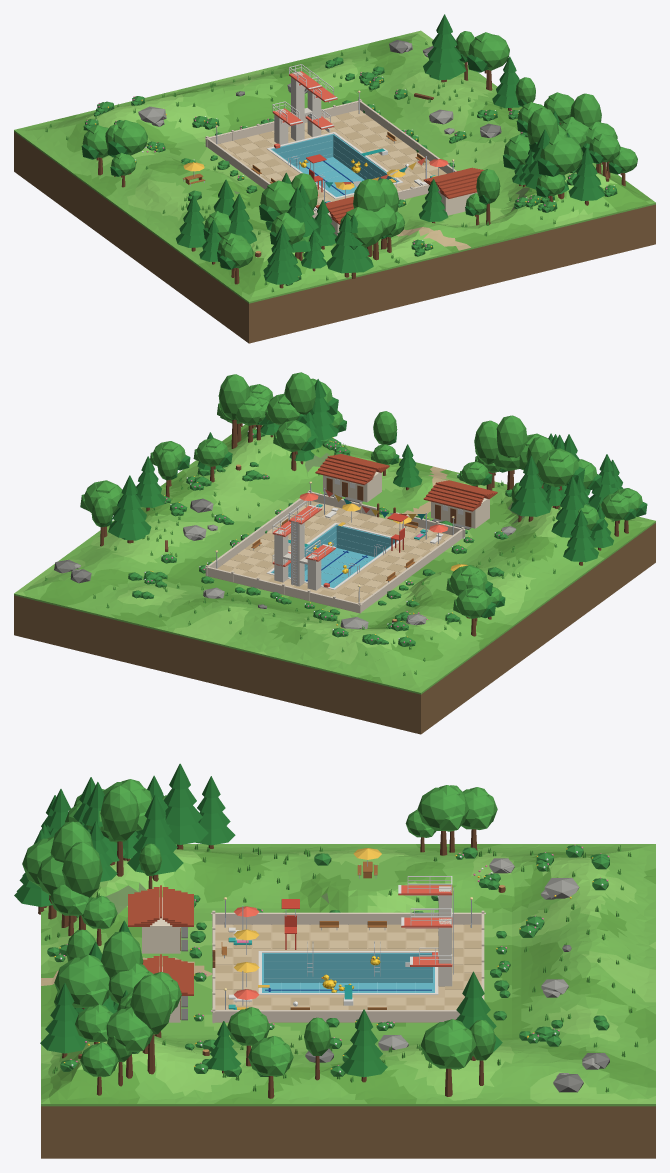
The model's file is Loc_Pool.fbx.
The picture shows the model from 3 angles, top to bottom: view 1: azimuth 30°, elevation 25°; view 2: azimuth 150°, elevation 25°; view 3: azimuth 270°, elevation 25°; orthographic projection. The views are drawn at different scales.
Parts seen in each view (by area): view 1: Soil, Lawn, Leaves, LeavesDark, LawnLight, LawnDark, Bush, Tile, Fence, Grout, DeckLight, Concrete (+11 smaller); view 2: Lawn, Soil, Leaves, LawnLight, LeavesDark, LawnDark, Bush, Fence, Grout, DeckLight, Tile, Roof (+11 smaller); view 3: Lawn, Soil, Leaves, LawnDark, LawnLight, LeavesDark, Tile, Bush, DeckLight, Fence, Grout, Roof (+12 smaller).
Part boxes in pixels (x1,y1,x2,y2): Soil: (14,132,655,343); Lawn: (14,33,655,303); Leaves: (82,31,637,268); LeavesDark: (81,14,623,284); LawnLight: (87,30,617,279); LawnDark: (53,37,651,296); Bush: (83,57,617,285); Tile: (271,134,398,196); Fence: (205,99,456,218); Grout: (217,113,446,205); DeckLight: (221,110,439,211); Concrete: (274,71,321,144); Lawn: (14,437,655,694); Soil: (14,523,655,734); Leaves: (80,372,642,618); LawnLight: (14,425,562,664); LeavesDark: (105,379,647,618); LawnDark: (39,424,647,683); Bush: (128,428,511,646); Fence: (205,490,465,613); Grout: (217,501,448,602); DeckLight: (223,504,452,602); Tile: (271,524,397,587); Roof: (315,453,497,511); Lawn: (41,844,655,1106); Soil: (41,1106,655,1158); Leaves: (22,779,497,1076); LawnDark: (41,844,655,1103); LawnLight: (41,848,655,1103); LeavesDark: (14,763,502,1077); Tile: (262,953,434,992); Bush: (47,845,609,1076); DeckLight: (215,924,481,1009); Fence: (211,910,485,1023); Grout: (215,924,481,1009); Roof: (128,885,193,995).
Size of the model in its own units: 66.85 by 20.05 by 66.8.
